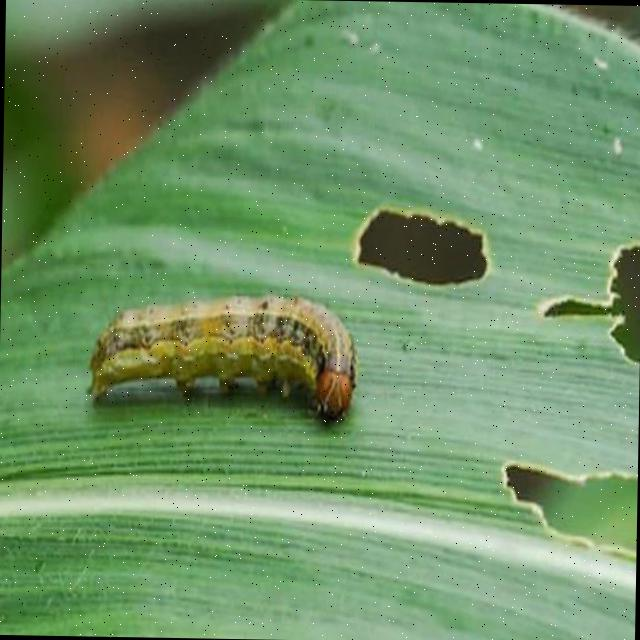worm: (88, 289, 361, 426)
